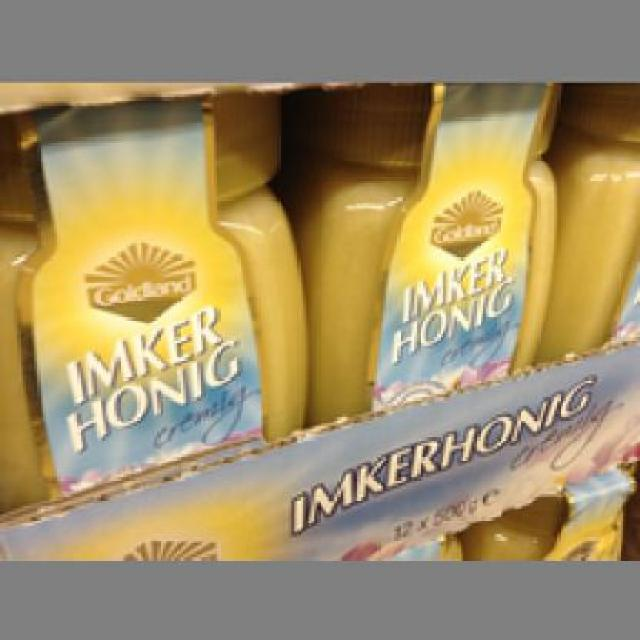Honey: (0, 90, 312, 515), (320, 86, 554, 412)
